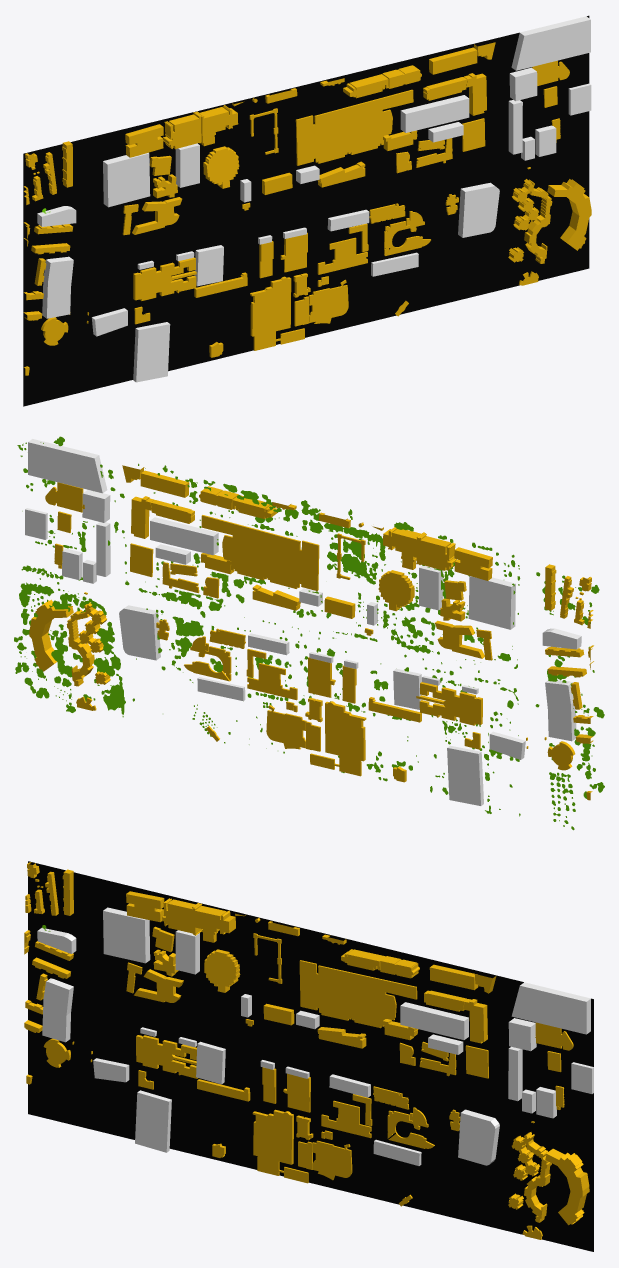
The model's file is new_low_buildings_05.glb.
The picture shows the model from 3 angles, top to bottom: view 1: azimuth 30°, elevation 25°; view 2: azimuth 150°, elevation 25°; view 3: azimuth 330°, elevation 25°; orthographic projection.
Visible parts, largest first — view 1: Layer 04, existing_building - Copy, new buildings; view 2: existing_building - Copy, new buildings, treesurface; view 3: Layer 04, existing_building - Copy, new buildings.
Part boxes in pixels (left/top/right/bottom): Layer 04: left=23, top=15, right=589, bottom=406; existing_building - Copy: left=23, top=42, right=591, bottom=375; new buildings: left=37, top=16, right=591, bottom=382; existing_building - Copy: left=29, top=465, right=593, bottom=800; new buildings: left=25, top=439, right=581, bottom=805; treesurface: left=14, top=436, right=604, bottom=830; Layer 04: left=28, top=861, right=593, bottom=1251; existing_building - Copy: left=24, top=862, right=589, bottom=1239; new buildings: left=37, top=907, right=593, bottom=1165.
Bounding box in the file's own units: 1035 × 458 × 20.85.
